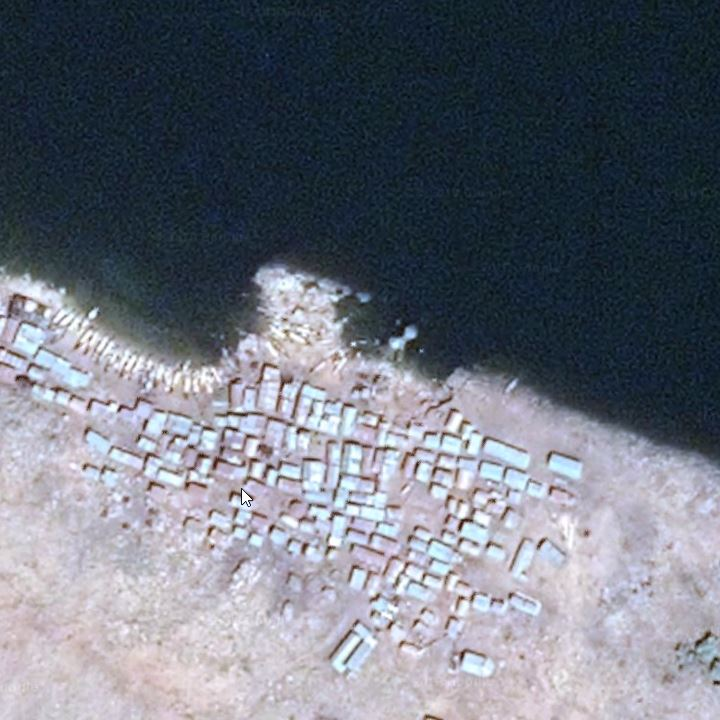boat: (279, 330, 317, 352), (285, 319, 321, 340), (264, 331, 290, 359), (90, 332, 110, 368), (48, 300, 70, 331), (262, 320, 288, 346), (328, 357, 356, 380), (205, 360, 227, 389), (497, 378, 525, 400), (96, 335, 116, 365), (117, 352, 137, 381), (109, 343, 126, 377), (308, 354, 333, 377), (74, 324, 93, 354), (167, 364, 182, 398), (81, 331, 98, 361), (68, 309, 84, 340), (59, 305, 77, 332), (180, 362, 192, 401), (198, 361, 211, 396), (127, 353, 142, 383), (154, 360, 165, 393), (192, 363, 201, 400)
